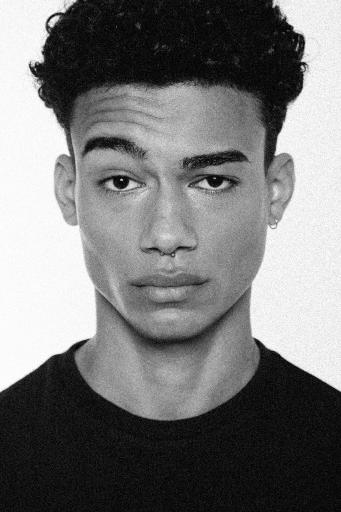left_eye: (189, 172, 242, 197)
left_lip_corner: (197, 276, 213, 295)
right_eye: (98, 173, 146, 199)
right_lip_corner: (133, 279, 149, 297)
